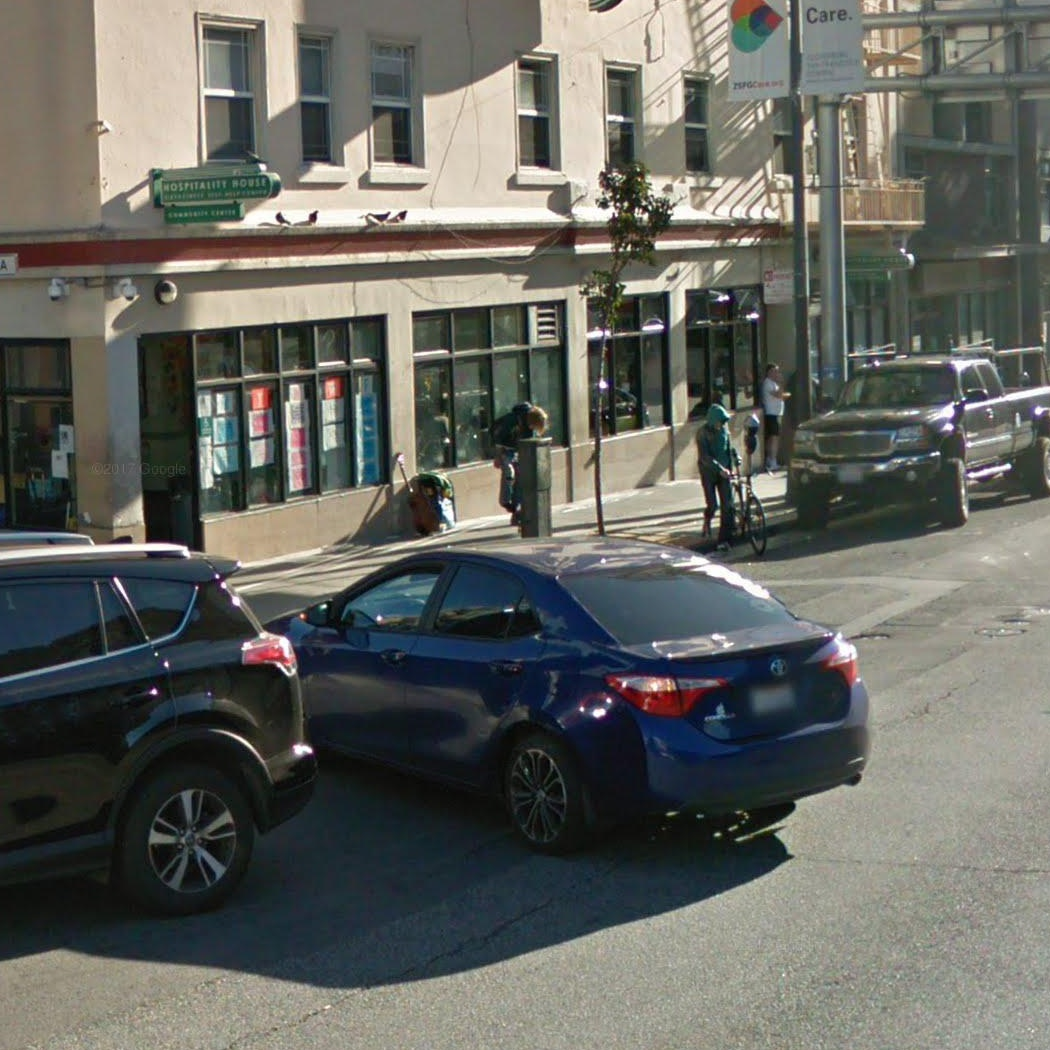No Parking: (761, 268, 796, 307)
